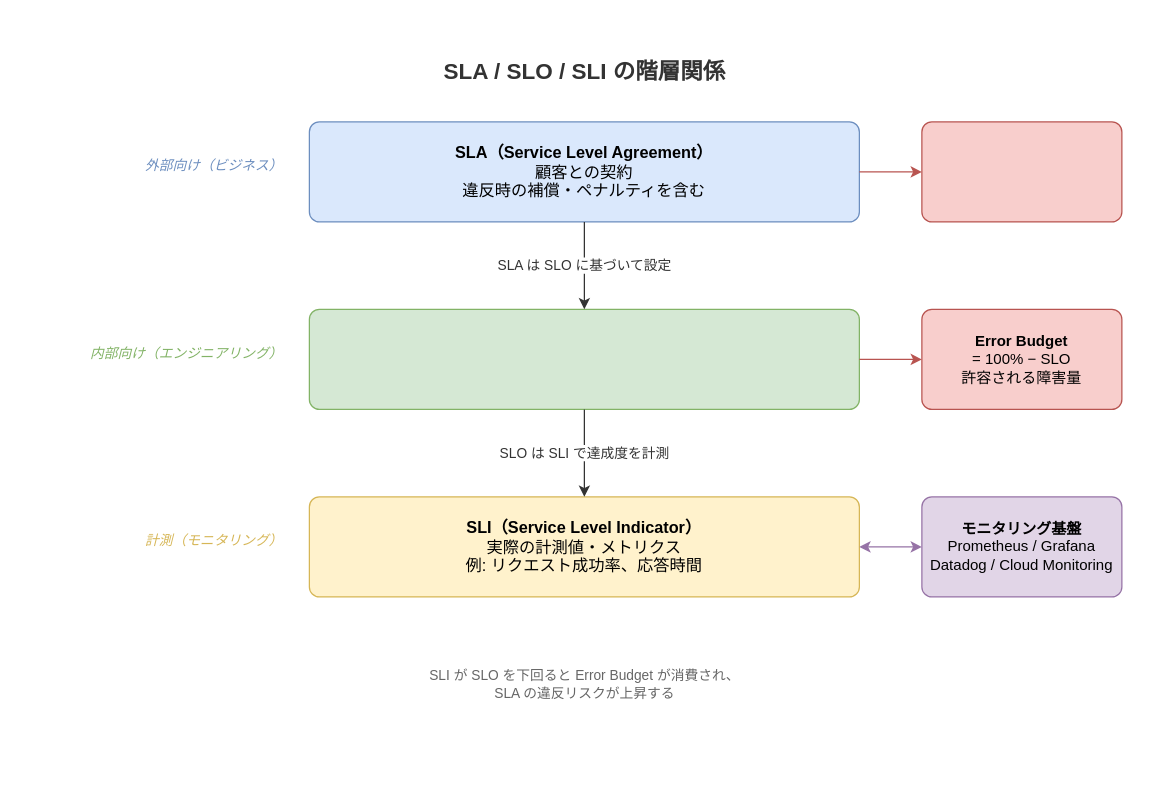
The diagram is 1168 pixels wide and 793 high, and some of its shapes have lost their labels. The centre of each missing label's shape, as x and y in pixels:
SLO（Service Level Objective） 内部の信頼性目標値 例: 可用性 99.95%、レイテンシ p99 < 300ms: point 583,358
ペナルティ SLA 違反時の補償 （返金・クレジット等）: point 1021,171
